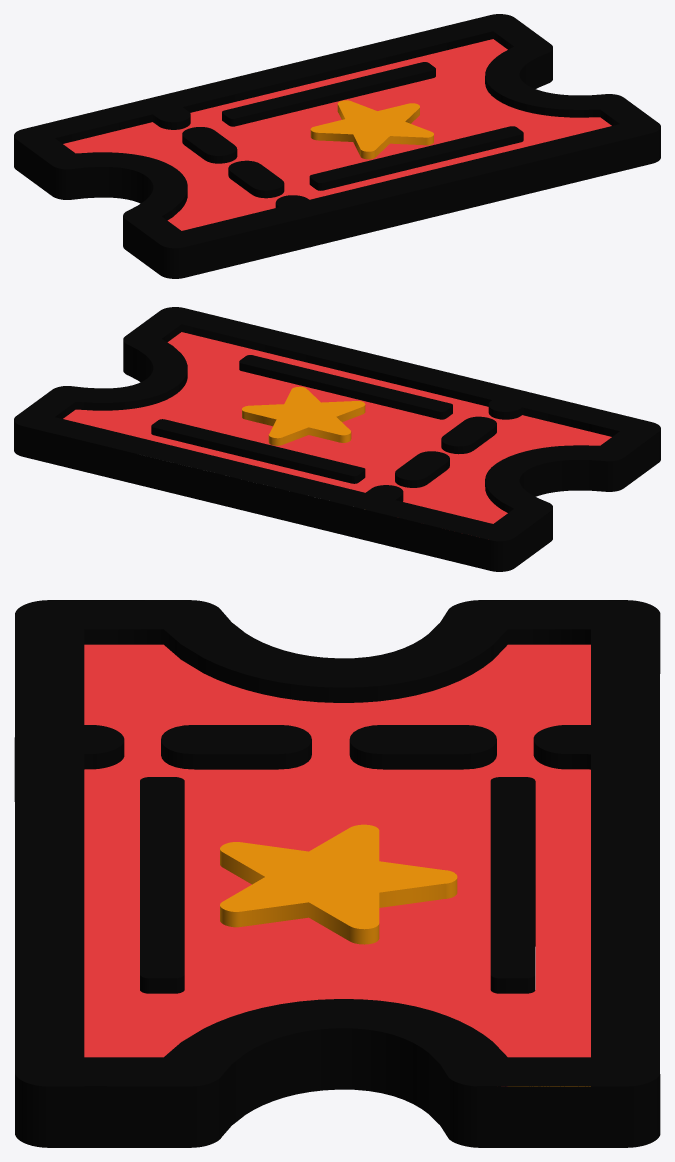
The model's file is Ticket.glb.
The picture shows the model from 3 angles, top to bottom: view 1: azimuth 30°, elevation 25°; view 2: azimuth 150°, elevation 25°; view 3: azimuth 270°, elevation 25°; orthographic projection. The views are drawn at different scales.
Parts seen in each view (by area): view 1: Curve.003; view 2: Curve.003; view 3: Curve.003.
Boxes of the visible parts, x1=… form: Curve.003: x1=14, y1=14, x2=660, y2=278; Curve.003: x1=14, y1=307, x2=660, y2=571; Curve.003: x1=14, y1=600, x2=660, y2=1147.
Bounding box in the file's own units: 3.37 × 0.198 × 1.89.
Materials: 1 (1 with a texture image).
